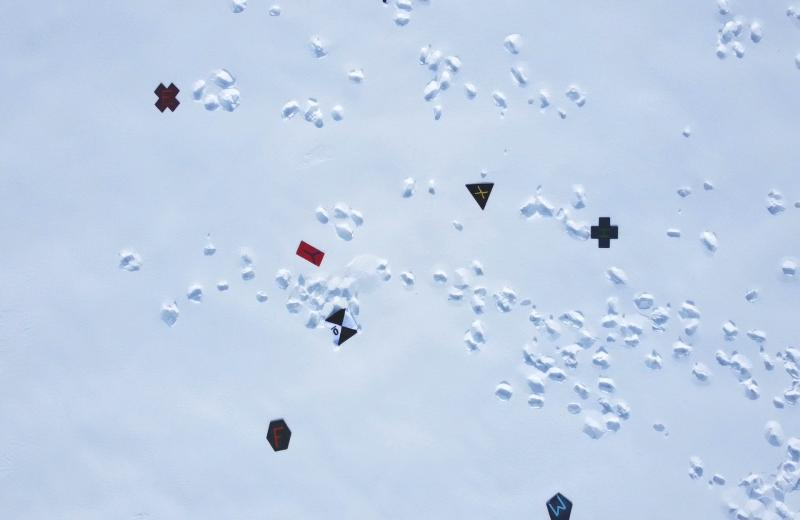Cross: (589, 217, 621, 251), (154, 81, 182, 115)
Hexagon: (266, 419, 292, 455)
Pentagon: (544, 490, 574, 520)
Rectangle: (296, 236, 325, 268)
Triangle: (466, 178, 497, 212)
